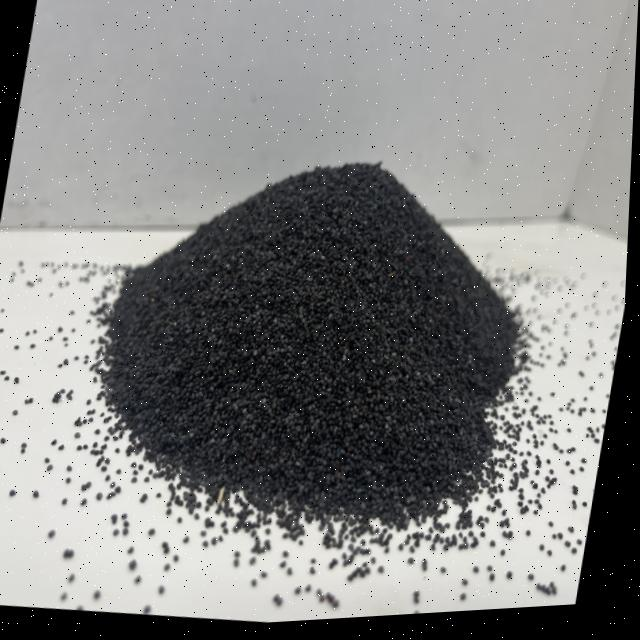Poppy Seeds: (61, 97, 566, 580)
